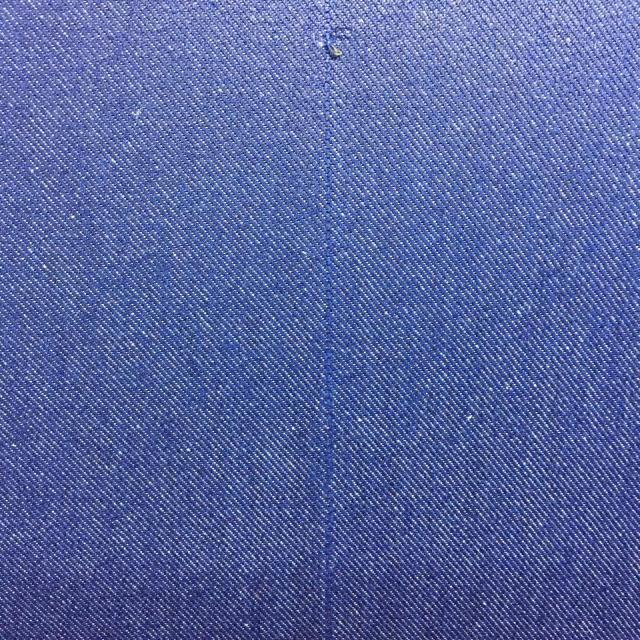Line: (320, 0, 335, 640)
